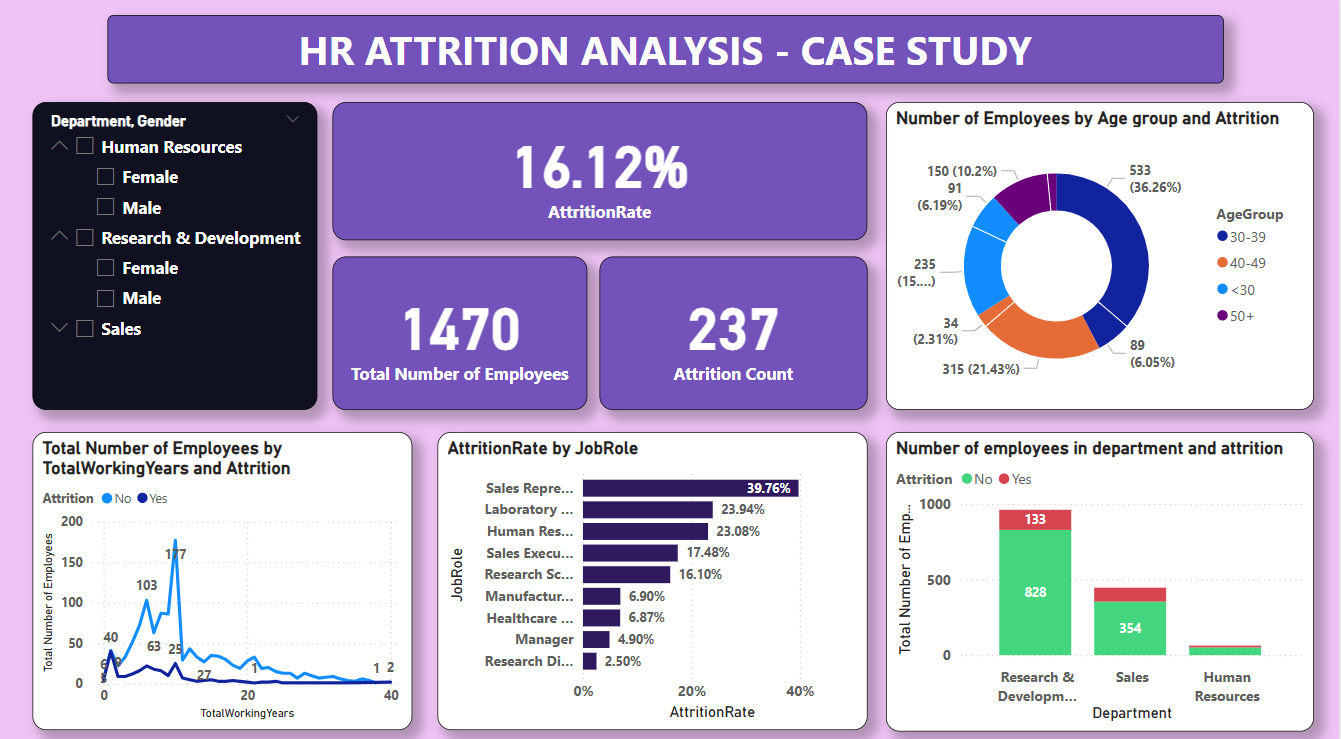

The dashboard page shown, as its layout file describes it:
{"tool":"powerbi","page":{"name":"Page 1","canvas":[1280,720],"ordinal":0},"visuals":[{"type":"barChart","fields":{"Category":["hr_data.JobRole"],"Y":["hr_data.AttritionRate"]},"box":[419.9,418.3,410.4,284.7],"z":0},{"type":"columnChart","title":"Number of employees in department and attrition","fields":{"Category":["hr_data.Department"],"Series":["hr_data.Attrition"],"Y":["hr_data.Total Number of Employees"]},"box":[847.8,418.3,408.8,286.3],"z":1000},{"type":"donutChart","title":"Number of Employees by Age group and Attrition","fields":{"Category":["hr_data.AgeGroup"],"Series":["hr_data.Attrition"],"Y":["hr_data.Total Number of Employees"]},"box":[847.8,103.4,408.8,294.3],"z":2000},{"type":"slicer","fields":{"Values":["hr_data.Department","hr_data.Gender"]},"box":[33.4,103.4,272,294.3],"z":2002},{"type":"card","fields":{"Values":["CountNonNull(hr_data.EmployeeNumber)"]},"box":[319.7,251.3,243.4,146.3],"z":2003},{"type":"lineChart","fields":{"Y":["hr_data.Total Number of Employees"],"Category":["hr_data.TotalWorkingYears"],"Series":["hr_data.Attrition"]},"box":[33.4,418.3,362.7,284.7],"z":2004},{"type":"card","fields":{"Values":["hr_data.Attrition Count"]},"box":[574.2,251.3,256.1,146.3],"z":2005},{"type":"card","fields":{"Values":["hr_data.AttritionRate"]},"box":[319.7,103.4,510.6,132],"z":2006},{"type":"textbox","box":[105,20.7,1065.7,65.2],"z":2007}]}

Visuals, with their boxes in screenshot pixels (x1, y1, x2, y2), scaled from the page's 1280x720 canvas onto the 1341x739 screenshot:
barChart - hr_data.JobRole x hr_data.AttritionRate: bbox=[440, 429, 870, 722]
"Number of employees in department and attrition" columnChart: bbox=[888, 429, 1316, 723]
"Number of Employees by Age group and Attrition" donutChart: bbox=[888, 106, 1316, 408]
slicer - hr_data.Department x hr_data.Gender: bbox=[35, 106, 320, 408]
card - CountNonNull(hr_data.EmployeeNumber): bbox=[335, 258, 590, 408]
lineChart - hr_data.Total Number of Employees x hr_data.TotalWorkingYears: bbox=[35, 429, 415, 722]
card - hr_data.Attrition Count: bbox=[602, 258, 870, 408]
card - hr_data.AttritionRate: bbox=[335, 106, 870, 242]
textbox: bbox=[110, 21, 1226, 88]
